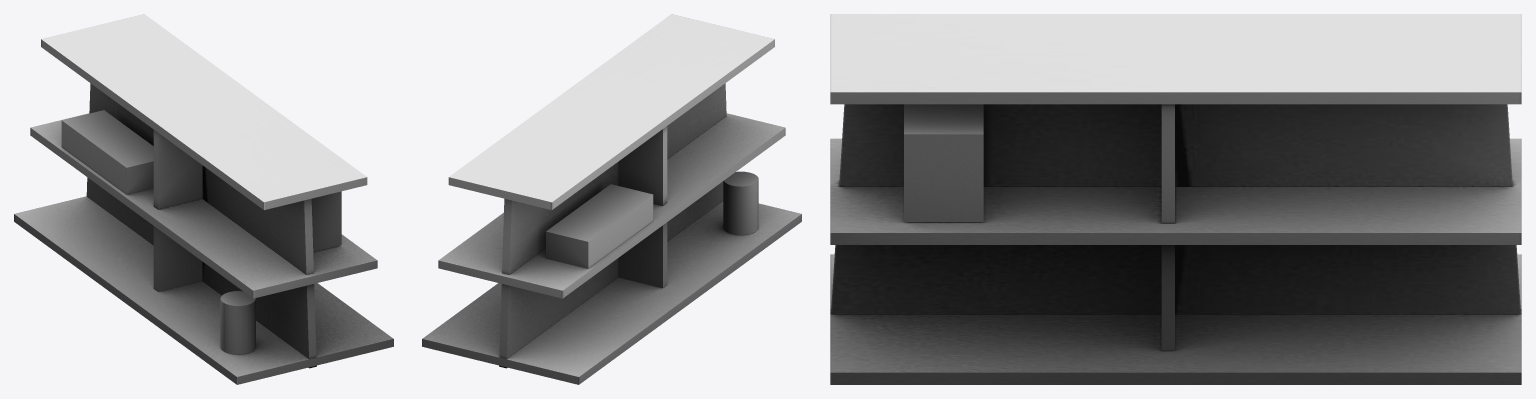
Rendered from Shelf3.fbx.
3 renders of one model, left to right at view 1: azimuth 30°, elevation 25°; view 2: azimuth 150°, elevation 25°; view 3: azimuth 270°, elevation 25°, orthographic. The views are drawn at different scales.
Visible parts, largest first — view 1: pCube3, pCube4, pCube5, pCube7, pCube11, pCube9, pCylinder1, pCube10; view 2: pCube3, pCube4, pCube5, pCube7, pCube11, pCube9, pCylinder1; view 3: pCube7, pCube3, pCube4, pCube5, pCube10, pCube9.
Part boxes in pixels (x1,y1,x2,y2): pCube3: [41, 14, 367, 210]; pCube4: [14, 196, 393, 384]; pCube5: [30, 113, 377, 298]; pCube7: [86, 83, 316, 368]; pCube11: [61, 110, 153, 194]; pCube9: [153, 130, 202, 291]; pCylinder1: [220, 291, 255, 354]; pCube10: [311, 191, 341, 251]; pCube3: [448, 14, 774, 210]; pCube4: [422, 201, 801, 384]; pCube5: [438, 113, 785, 298]; pCube7: [499, 83, 726, 368]; pCube11: [546, 184, 653, 268]; pCube9: [618, 126, 667, 287]; pCylinder1: [723, 171, 758, 234]; pCube7: [831, 104, 1520, 314]; pCube3: [830, 14, 1521, 104]; pCube4: [830, 254, 1521, 384]; pCube5: [830, 138, 1521, 244]; pCube10: [904, 104, 983, 221]; pCube9: [1161, 104, 1174, 350].
Size of the model in its own units: 106 by 115 by 262.
8 materials, 8 textured.
